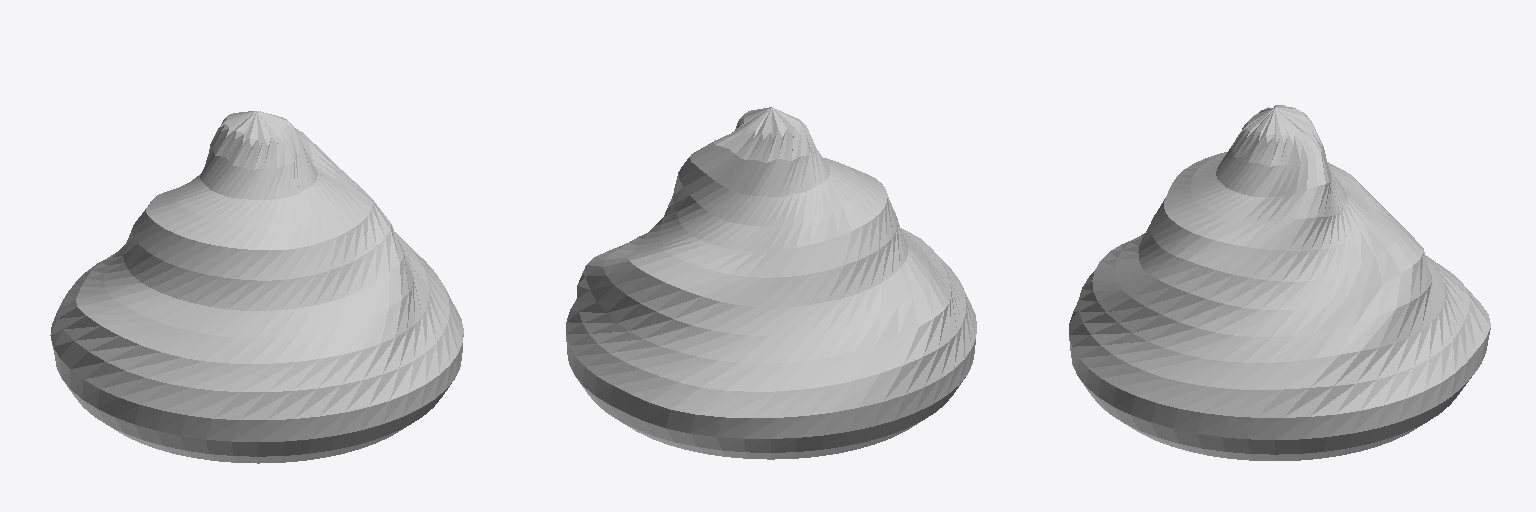
Rendered from Seashell2.obj.
3 renders of one model, left to right at view 1: azimuth 30°, elevation 25°; view 2: azimuth 150°, elevation 25°; view 3: azimuth 270°, elevation 25°, orthographic.
Visible parts, largest first — view 1: Cone001.001; view 2: Cone001.001; view 3: Cone001.001.
Boxes of the visible parts, <box> form: Cone001.001: <box>50,111,463,463</box>; Cone001.001: <box>566,107,976,459</box>; Cone001.001: <box>1069,105,1490,460</box>.
Bounding box in the file's own units: 3.31 × 2.61 × 3.38.